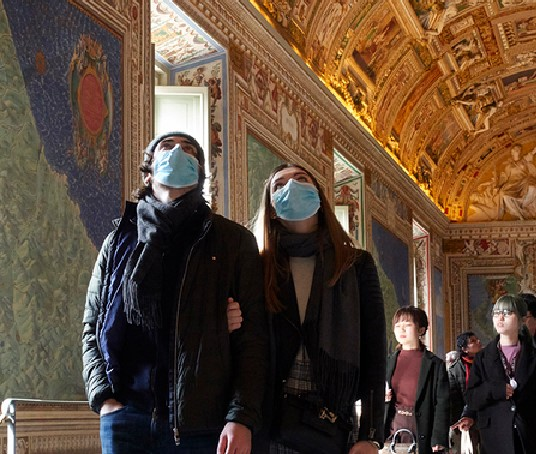face_no_mask: (392, 306, 430, 350), (458, 331, 481, 355)
face_with_mask: (141, 132, 214, 202), (262, 162, 327, 226)
